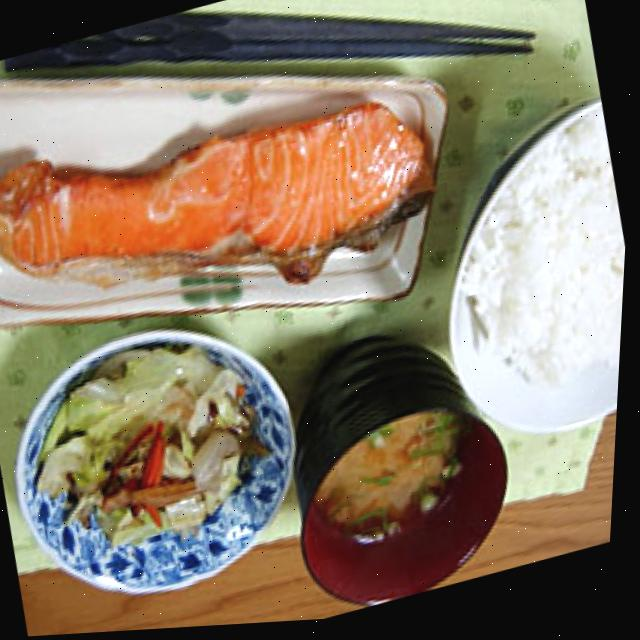熟制海鲜: (0, 41, 466, 368)
